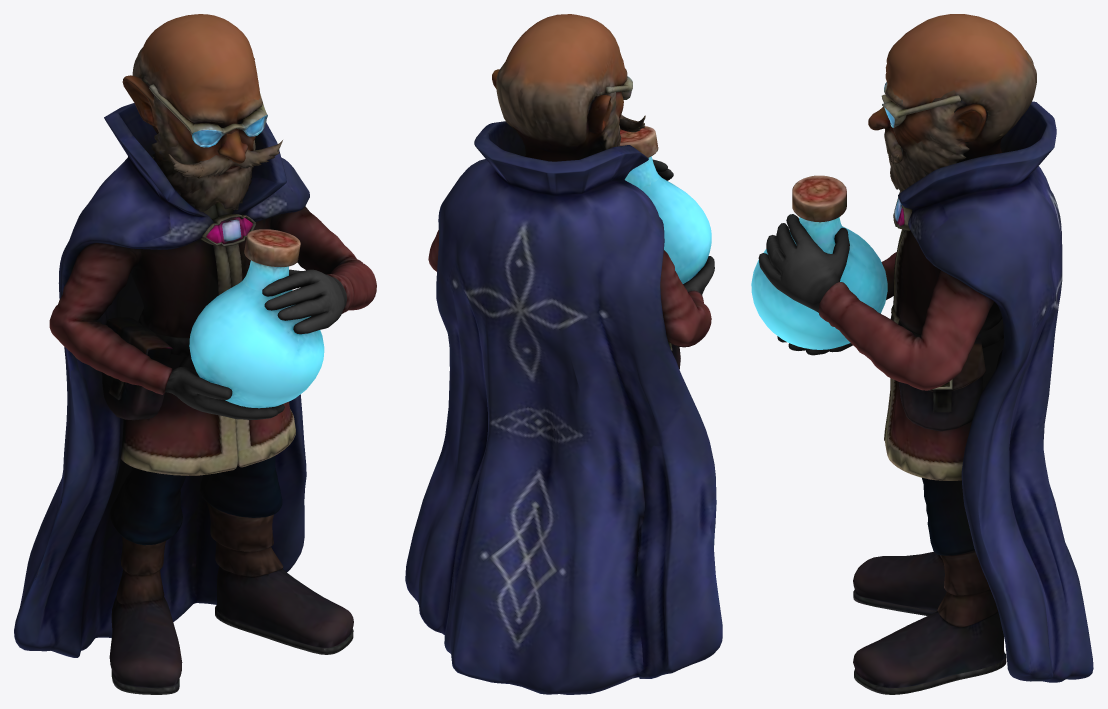
Rendered from MZ4250 - Gnome Male Alchemist Artificer Old_b.glb.
3 renders of one model, left to right at view 1: azimuth 30°, elevation 25°; view 2: azimuth 150°, elevation 25°; view 3: azimuth 270°, elevation 25°, orthographic. The views are drawn at different scales.
Parts seen in each view (by area): view 1: Buckle Fancy.001; view 2: Buckle Fancy.001; view 3: Buckle Fancy.001.
Part boxes in pixels (x1,y1,x2,y2): Buckle Fancy.001: [14, 14, 376, 694]; Buckle Fancy.001: [405, 14, 722, 694]; Buckle Fancy.001: [751, 14, 1093, 694].
Bounding box in the file's own units: 0.2768 × 0.5273 × 0.253.
Materials: 1 (1 with a texture image).
